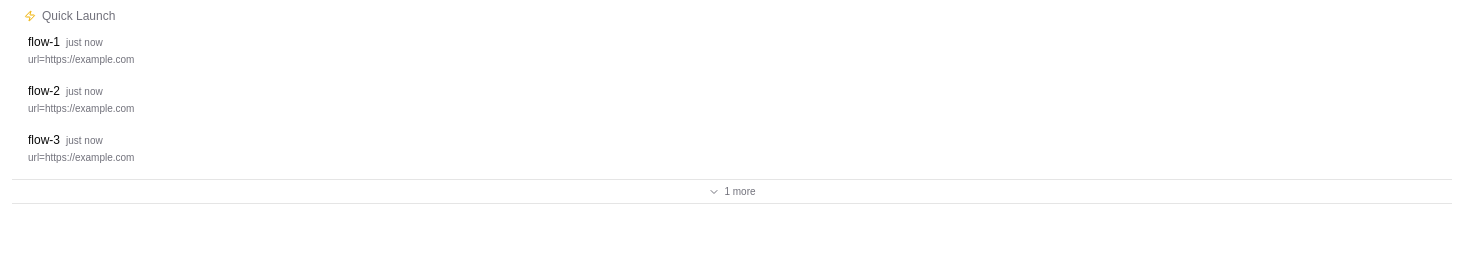
QuickLaunch › expands to show all items on click
Click the button "1 more" at (732,191), box [12, 179, 1452, 203]
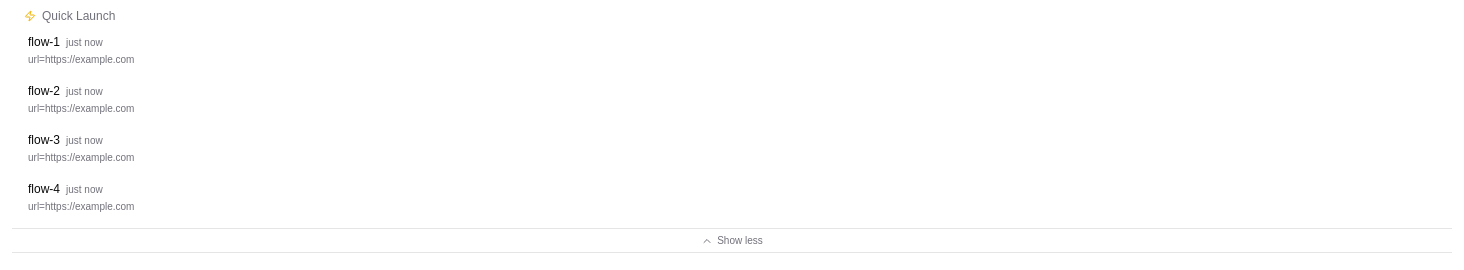
Expected: the text "flow-4" is shown, [28, 181, 60, 197]
Expected: the button "Show less" is shown, [12, 228, 1452, 252]
